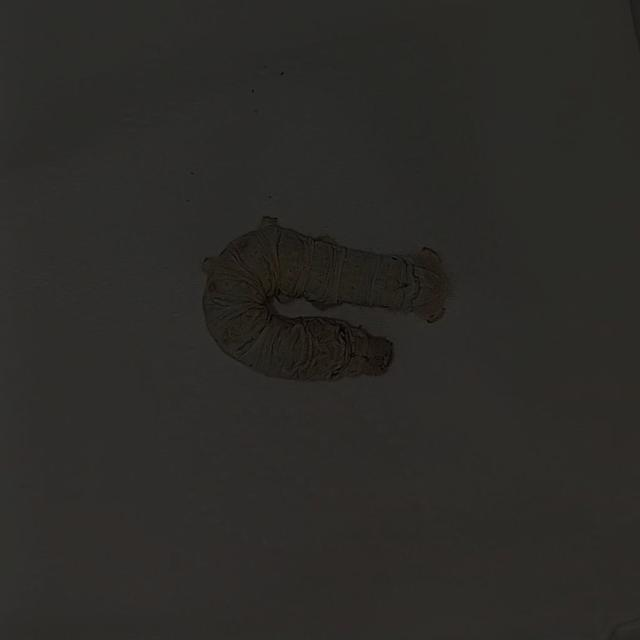Healthy: (180, 186, 484, 402)
